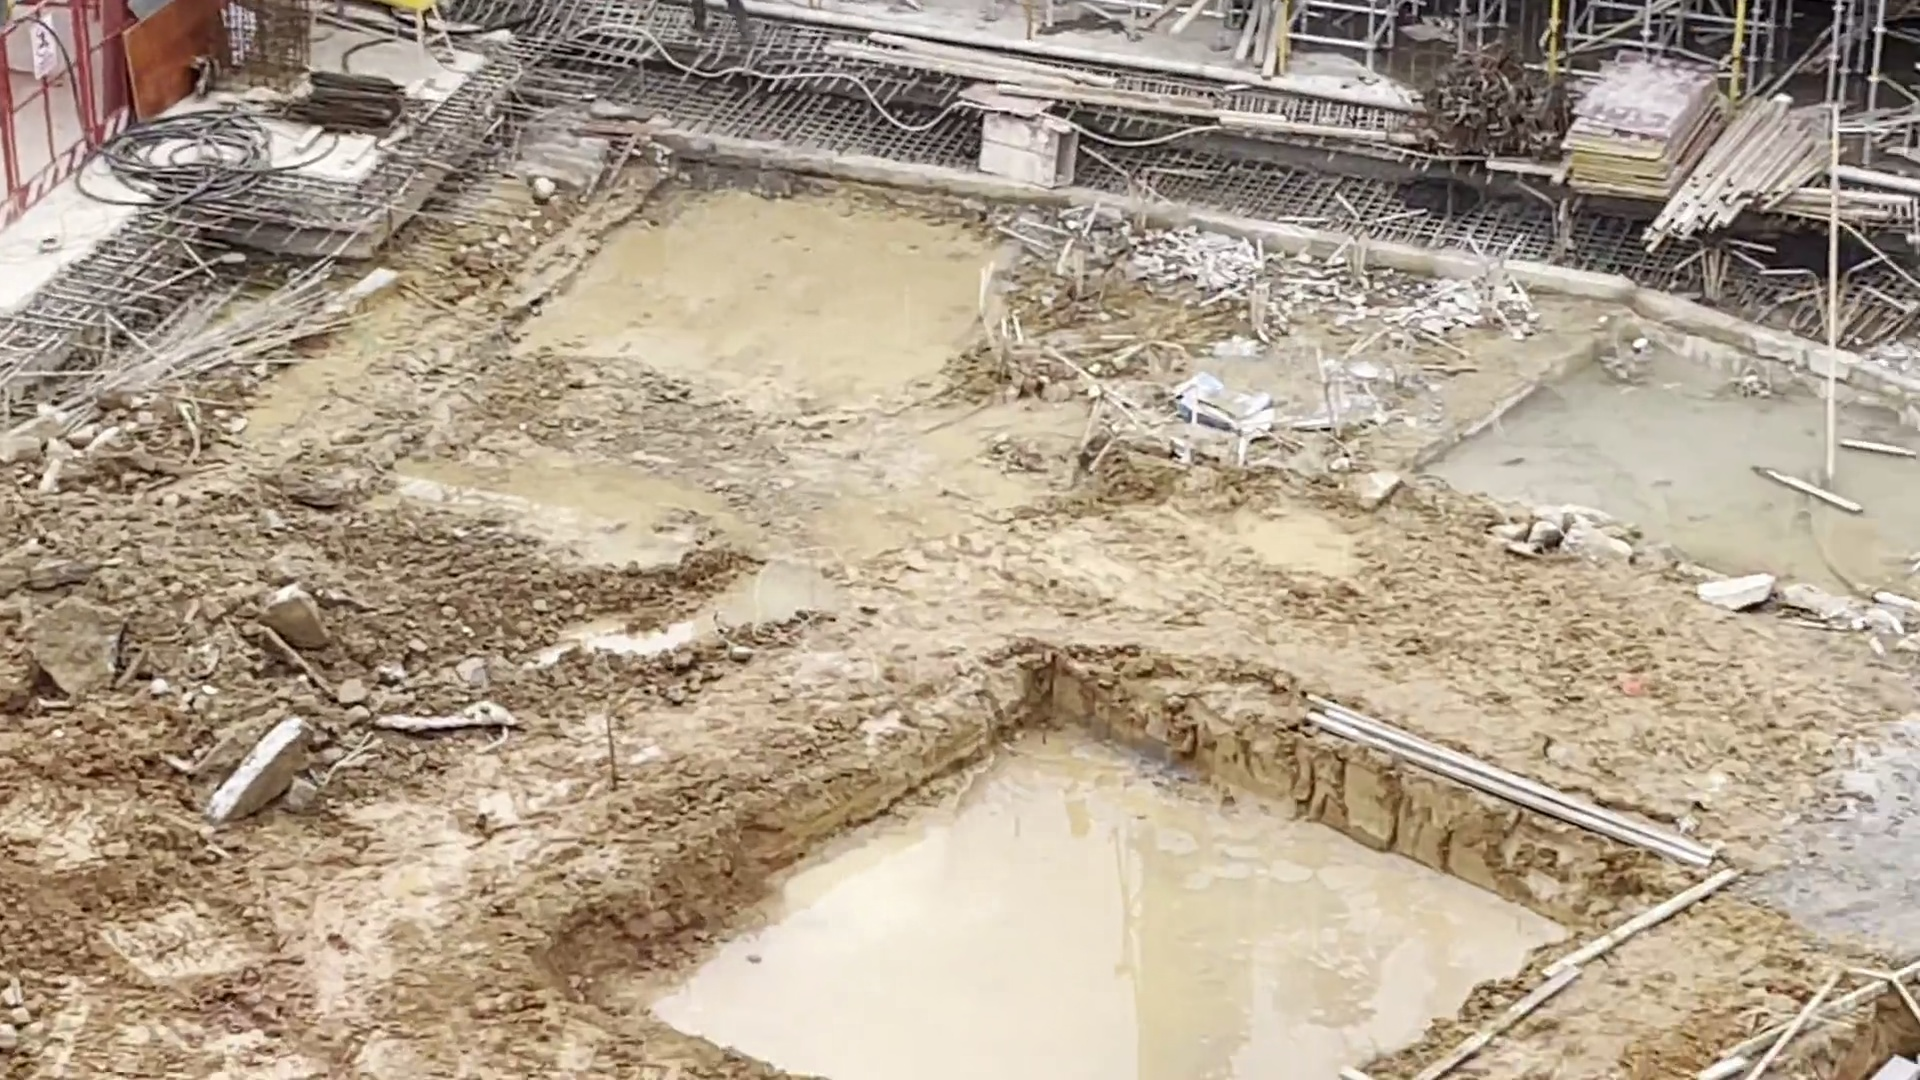board: (1555, 46, 1720, 203)
fence: (1, 1, 138, 248)
